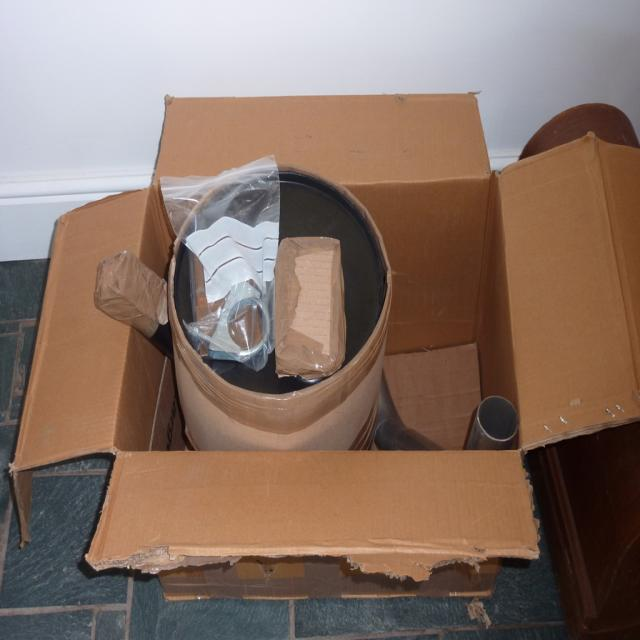Box: (8, 90, 640, 602)
